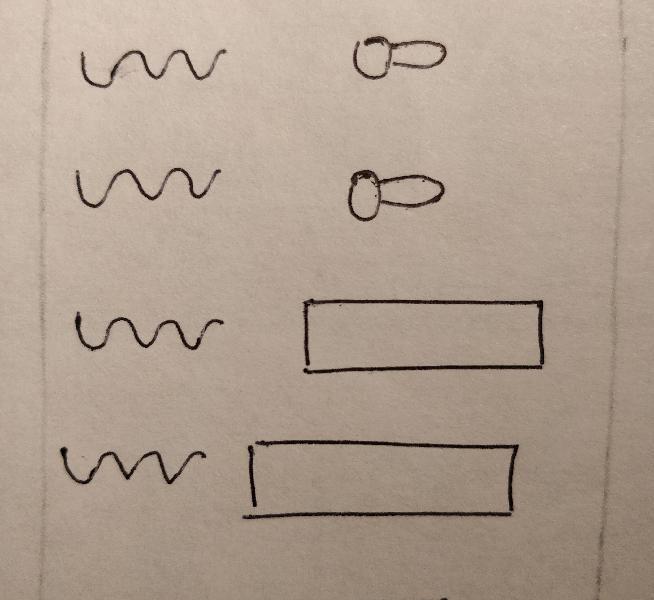switch: (339, 160, 476, 244), (336, 20, 459, 95)
text: (63, 292, 230, 372), (50, 432, 212, 501), (65, 152, 226, 218), (71, 34, 232, 98)
text_input: (232, 422, 527, 532), (288, 284, 557, 385)
